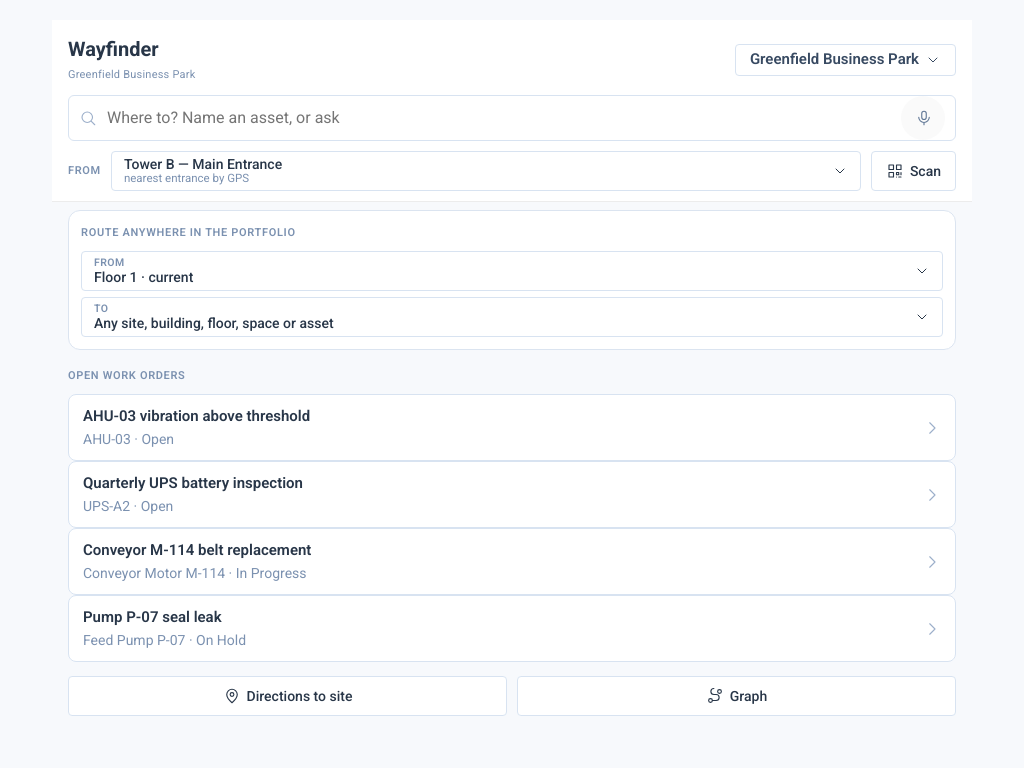
it: wayfinder — guided mode and arrival › a mid-route scan re-anchors quietly and snaps progress
Expected: the button "Quarterly UPS battery inspection UPS-A2 · Open" is shown, [68,461,956,528]
Type "Primary Pump" into the field named "Destination" at {"x": 499, "y": 118}, box [105,107,893,129]
Then press Enter
(page scrolled)
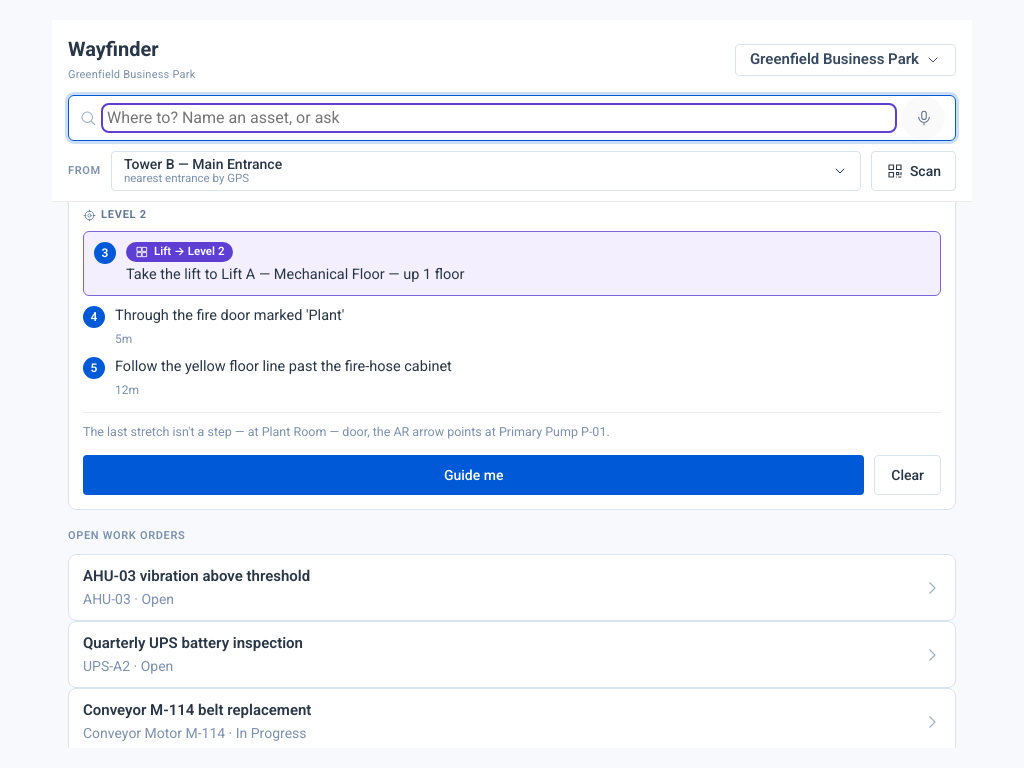
Now the button "Guide me" is shown
Click the button "Guide me" at {"x": 474, "y": 475}, box [83,455,864,495]
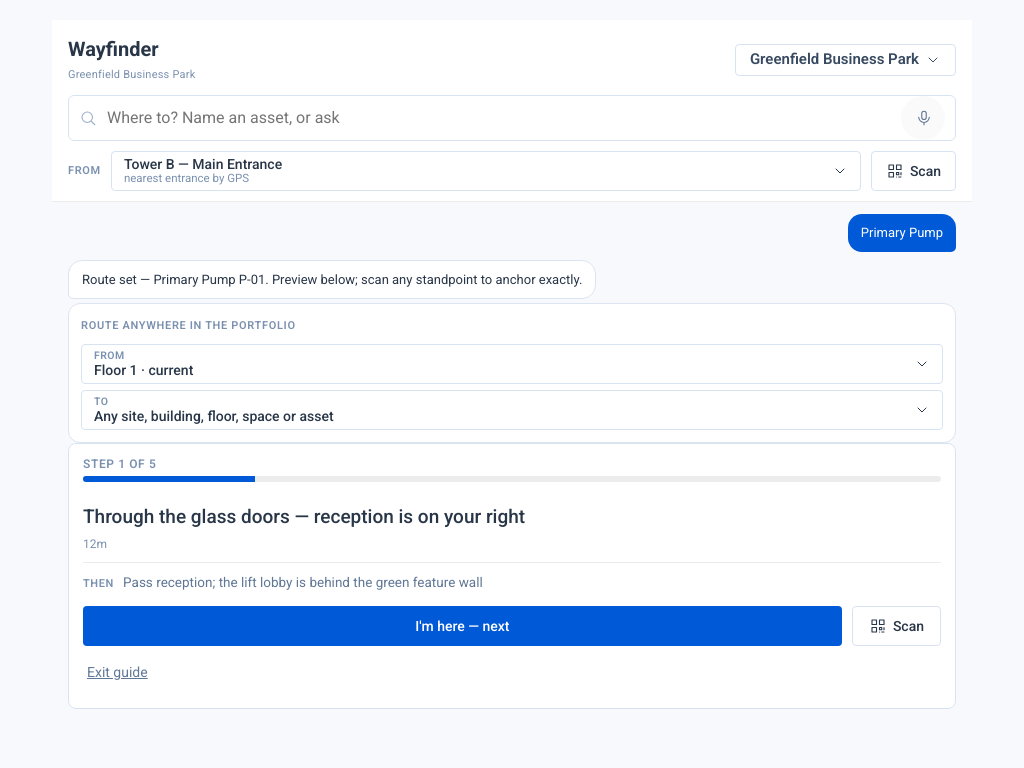
Now the text "Step 1 of 5" is shown, box [83,457,156,471]
Click the 1st button "Scan" at {"x": 913, "y": 171}, box [871,151,956,191]
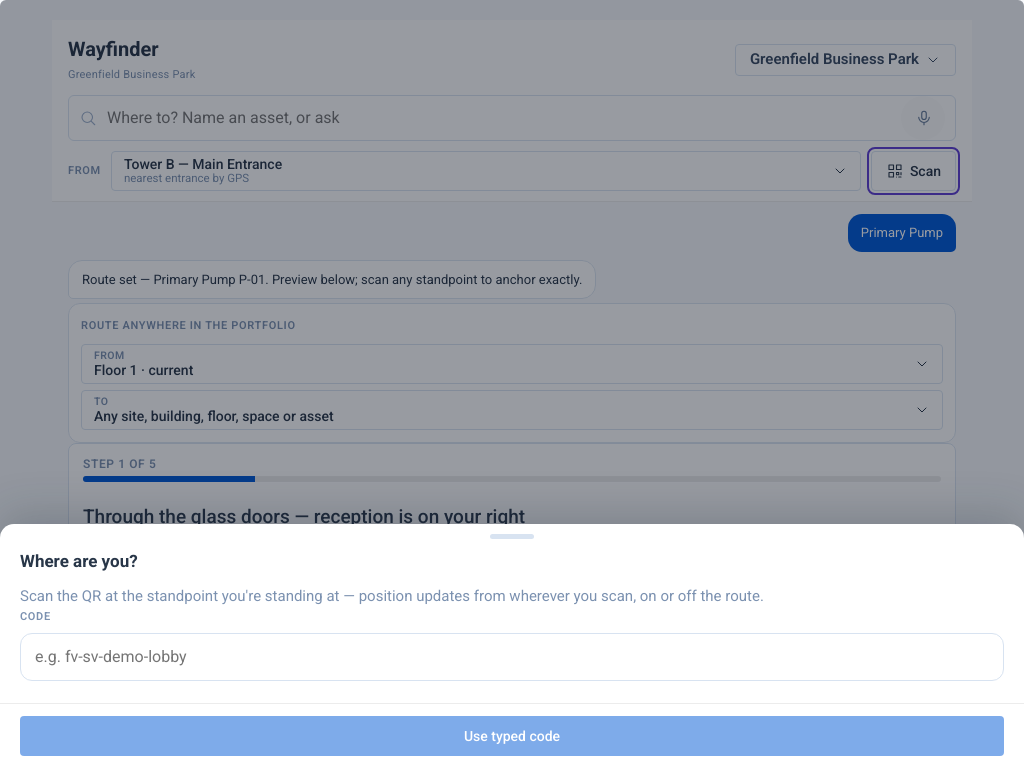
Type "fv-sv-demo-landing" into the field with placeholder "e.g. fv-sv-demo-lobby" at {"x": 512, "y": 657}, box [20,633,1004,681]
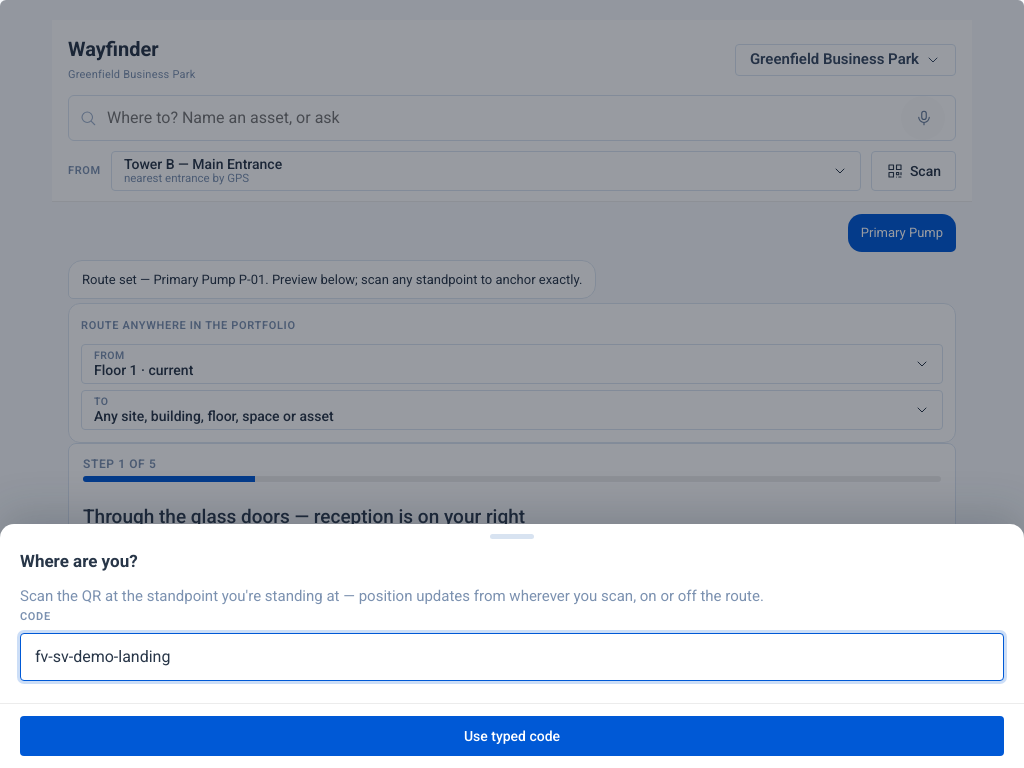
Click the button "Use typed code" at {"x": 512, "y": 736}, box [20,716,1004,756]
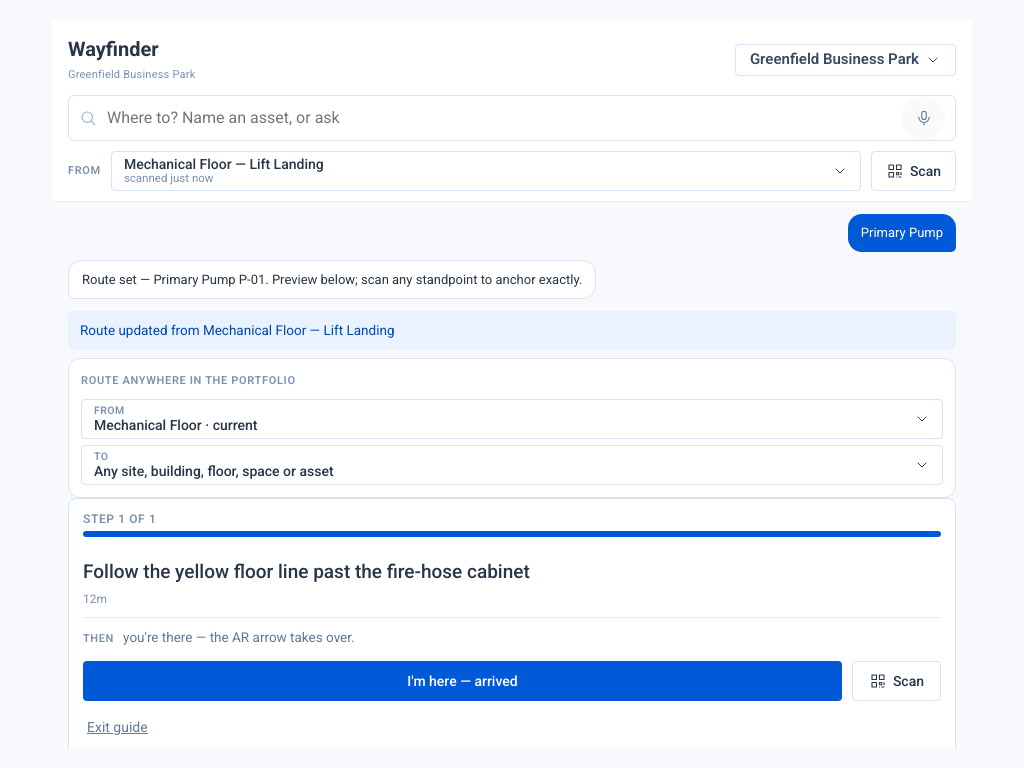
Now the text "Route updated from Mechanical Floor — Lift Landing" is shown, box [68,311,956,350]
Now the text "Step 1 of 1" is shown, box [83,512,156,526]
Now the text "Follow the yellow floor line past the fire-hose cabinet" is shown, box [83,560,530,583]
